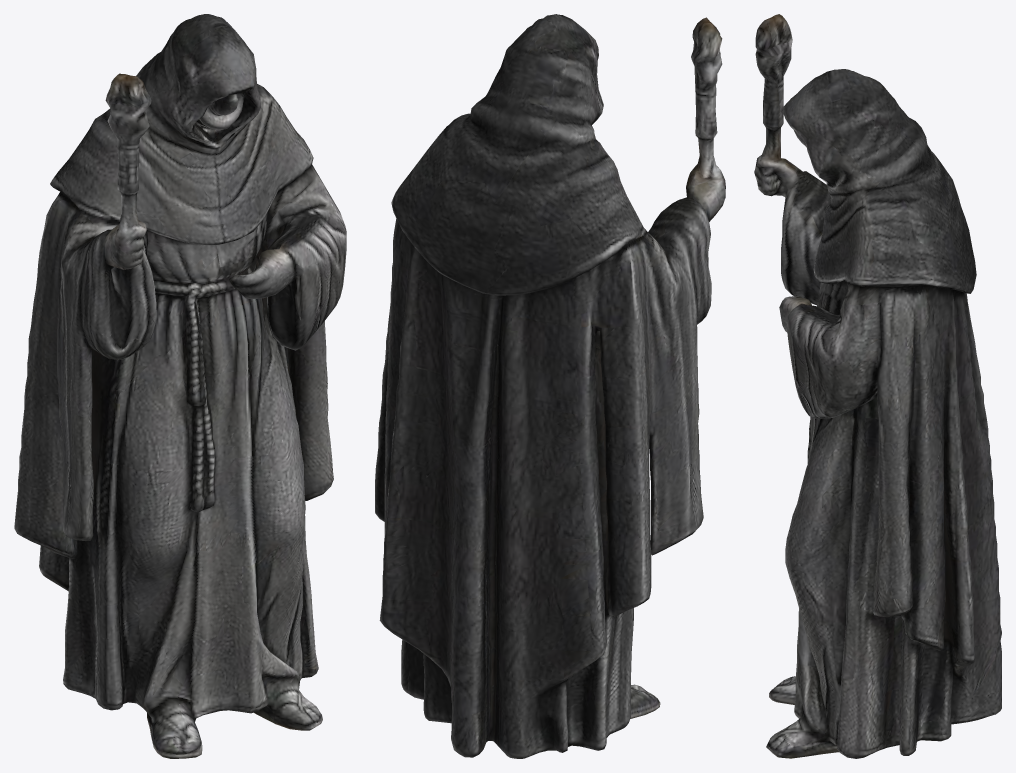
Rendered from Clergy_Monk.glb.
3 views of the same model, side by side, from view 1: azimuth 30°, elevation 25°; view 2: azimuth 150°, elevation 25°; view 3: azimuth 270°, elevation 25° (orthographic). The views are drawn at different scales.
Size of the model in its own units: 0.8336 by 1.91 by 0.6536.
Materials: 1 (1 with a texture image).
